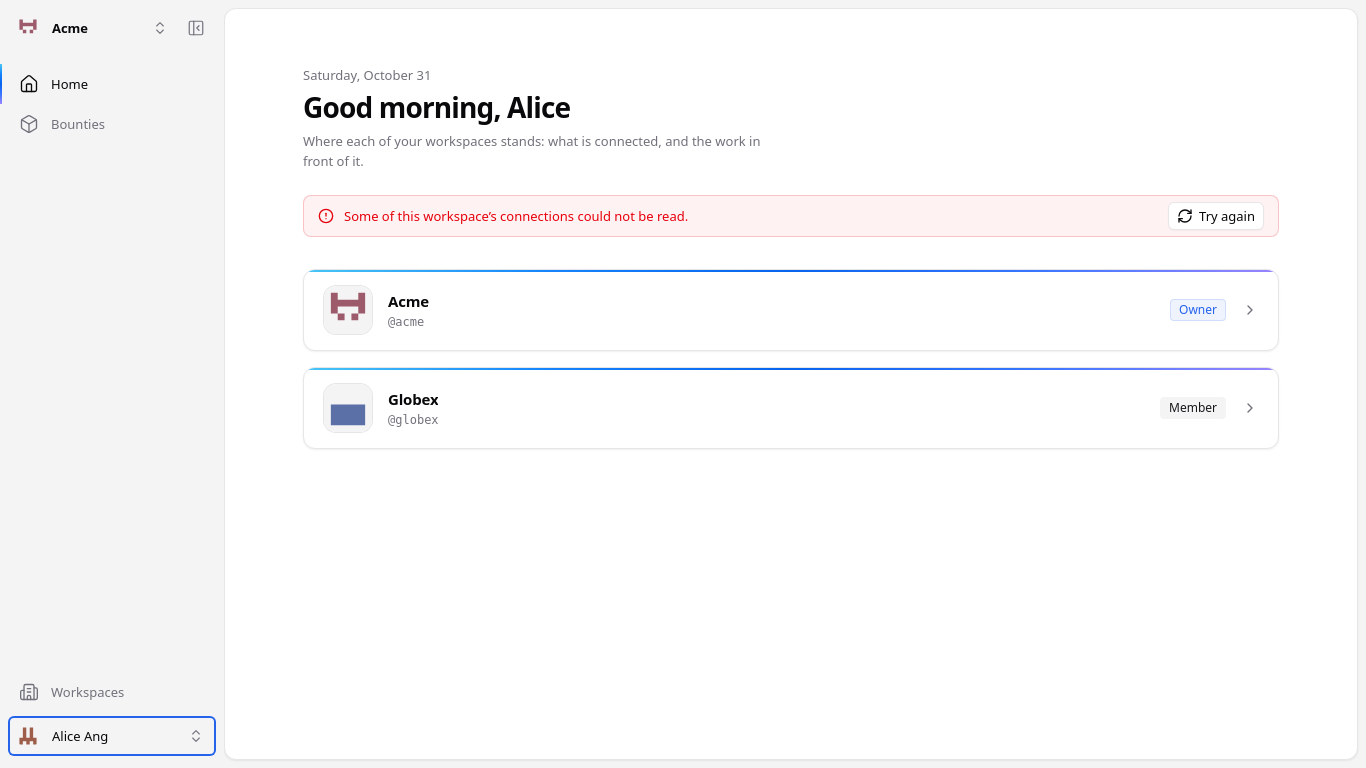
Test: the menu opens the account screen, and home comes back
This screenshot has width=1366, height=768.
Expected: the heading "Good morning, Alice" is shown, x1=303 y1=88 x2=570 y2=126
Press Enter in the button with aria-label "Account and settings", box x1=8 y1=716 x2=216 y2=756
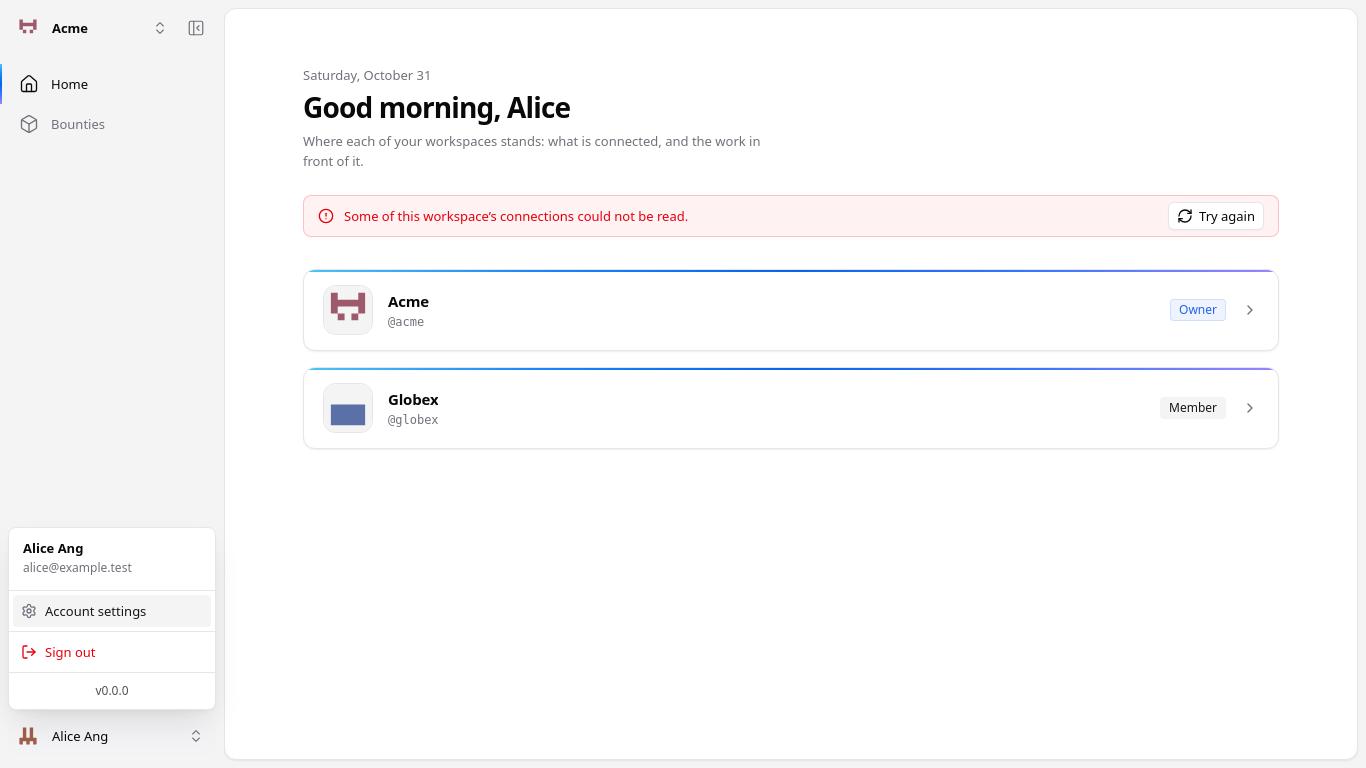
Now the menu is shown, box x1=8 y1=527 x2=216 y2=710
Click the menu item "Account settings" at (112,611), box x1=13 y1=595 x2=211 y2=627
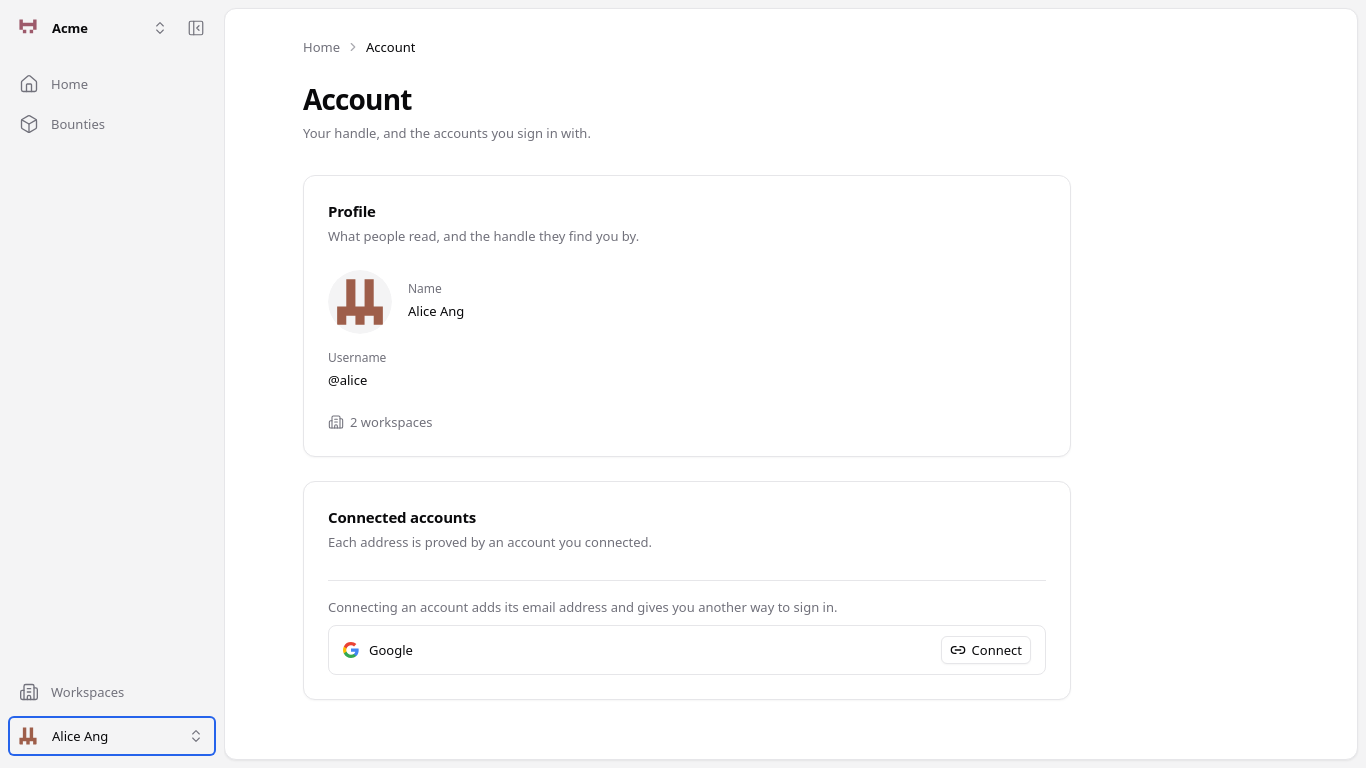
Now the heading "Account" is shown, box x1=303 y1=80 x2=412 y2=118
Click the 2nd link "Home" at (54,84), box x1=19 y1=74 x2=88 y2=94
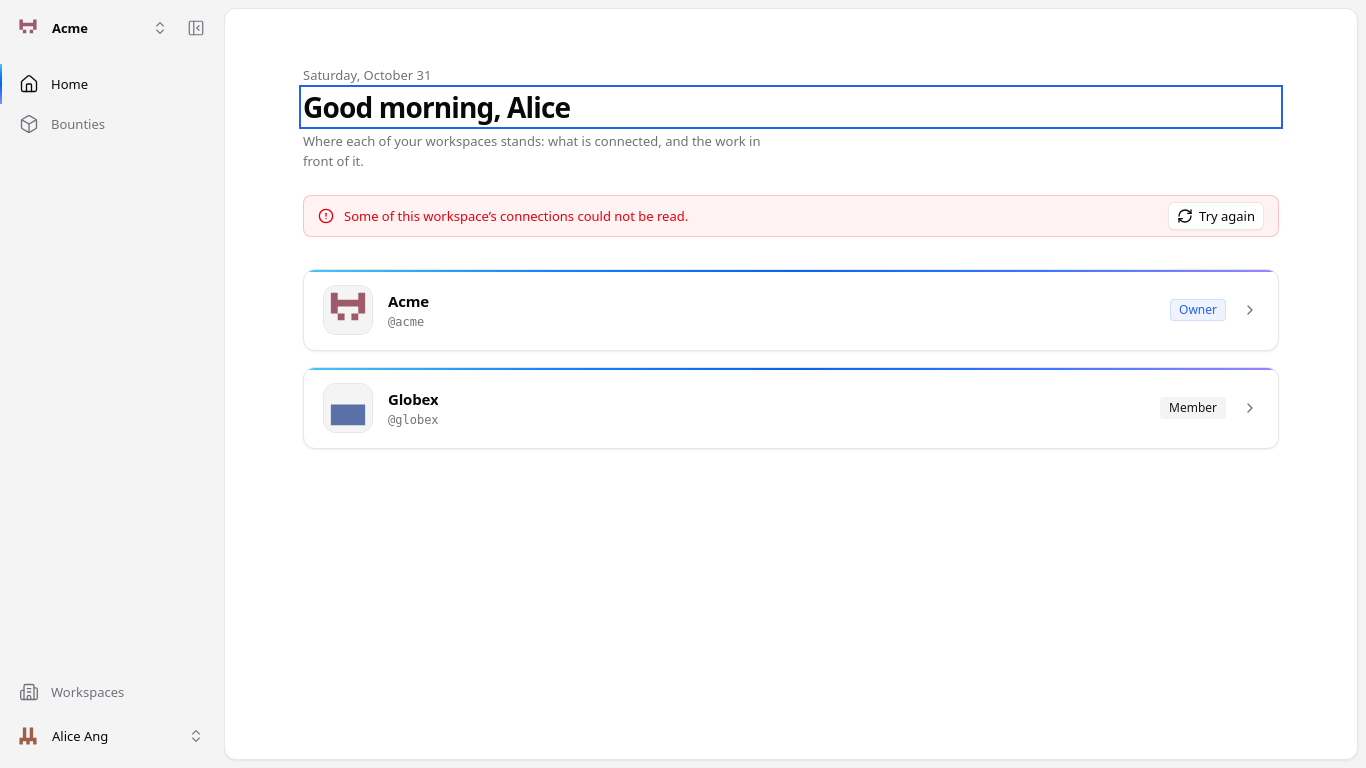
Now the heading "Good morning, Alice" is shown, box x1=303 y1=88 x2=570 y2=126
